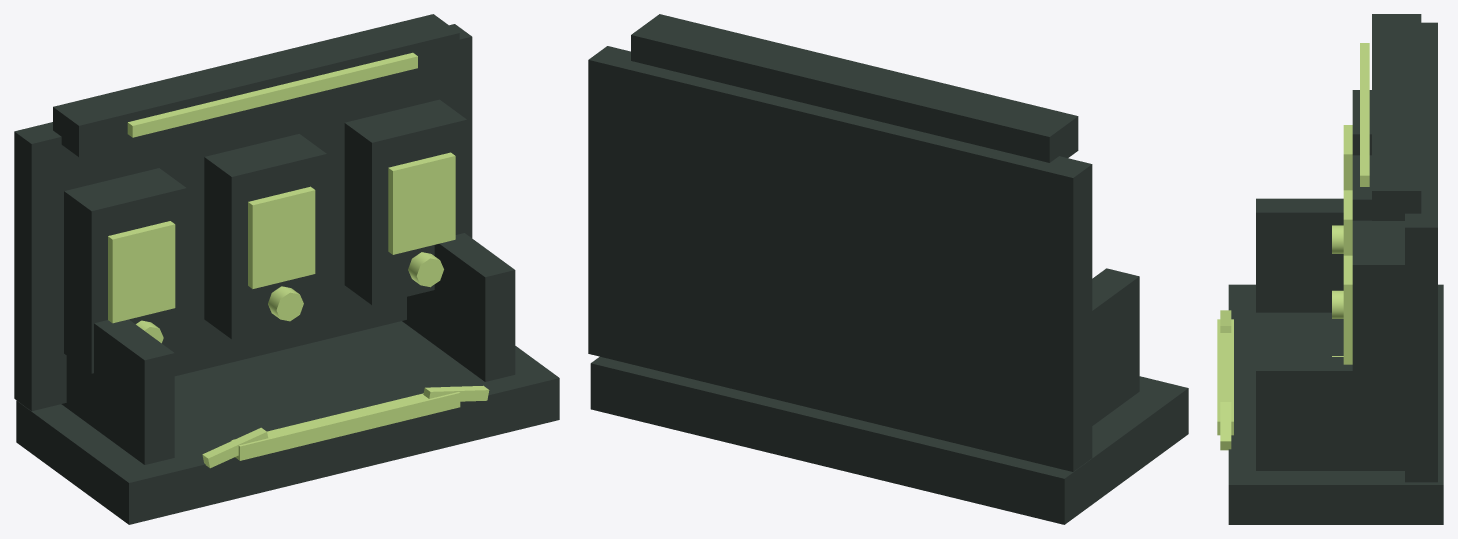
File: exhibit-skills-workbench.v1.glb
The picture shows the model from 3 angles, left to right: view 1: azimuth 30°, elevation 25°; view 2: azimuth 150°, elevation 25°; view 3: azimuth 270°, elevation 25°; orthographic projection. The views are drawn at different scales.
Parts seen in each view (by area): view 1: SkillsWorkbenchStructure, SkillsWorkbenchAccent; view 2: SkillsWorkbenchStructure; view 3: SkillsWorkbenchStructure, SkillsWorkbenchAccent.
Boxes of the visible parts, x1=… form: SkillsWorkbenchStructure: x1=14, y1=14, x2=559, y2=524; SkillsWorkbenchAccent: x1=108, y1=52, x2=489, y2=468; SkillsWorkbenchStructure: x1=588, y1=14, x2=1188, y2=524; SkillsWorkbenchStructure: x1=1228, y1=14, x2=1443, y2=524; SkillsWorkbenchAccent: x1=1217, y1=43, x2=1369, y2=450.
Size of the model in its own units: 1.76 by 1.29 by 0.82.
